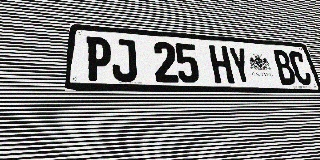2: (153, 41, 179, 83)
5: (175, 43, 201, 83)
B: (271, 50, 298, 85)
C: (287, 51, 313, 85)
H: (208, 45, 235, 84)
J: (112, 38, 137, 82)
P: (85, 37, 111, 81)
Y: (227, 47, 253, 84)
